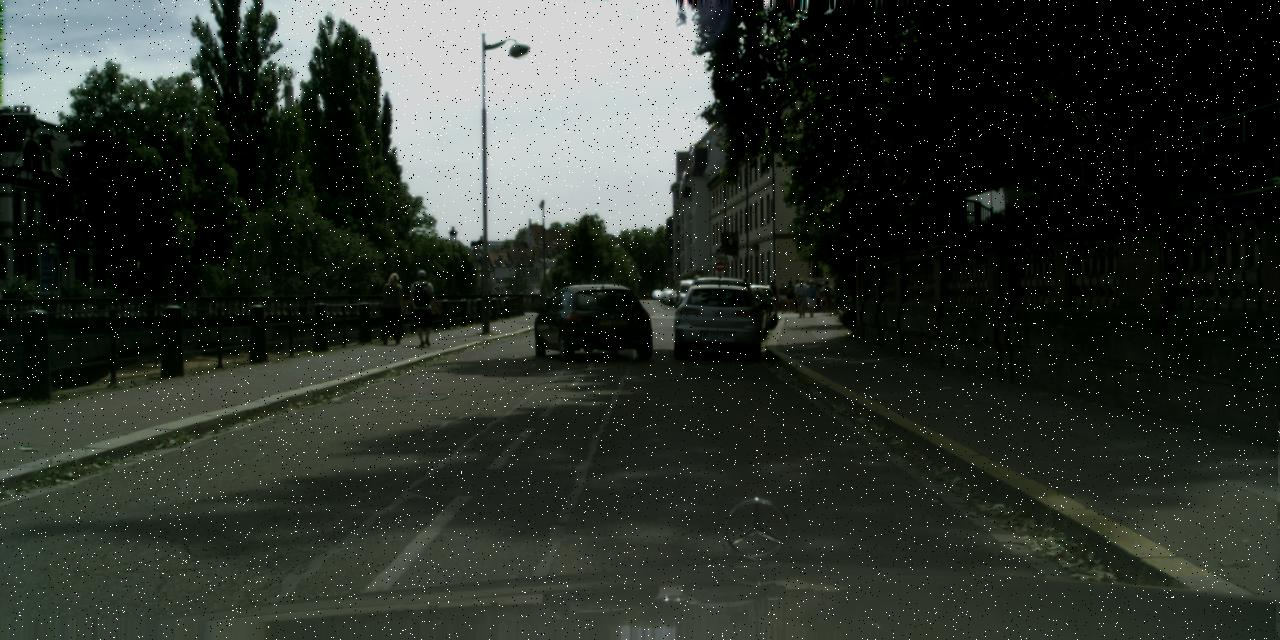ped: (407, 270, 438, 346), (378, 272, 407, 344), (792, 278, 808, 318), (803, 280, 818, 318), (790, 279, 803, 312), (784, 280, 797, 312), (801, 280, 814, 311), (767, 280, 779, 311), (776, 282, 788, 312), (820, 280, 832, 310), (817, 282, 828, 310)
